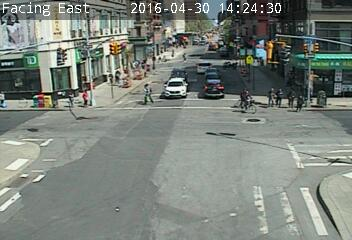neg: (238, 87, 259, 115)
pos: (284, 86, 303, 111), (294, 93, 310, 114), (272, 87, 288, 107), (265, 85, 280, 105), (228, 6, 241, 24), (81, 88, 94, 105), (180, 48, 189, 60), (170, 47, 178, 57)
